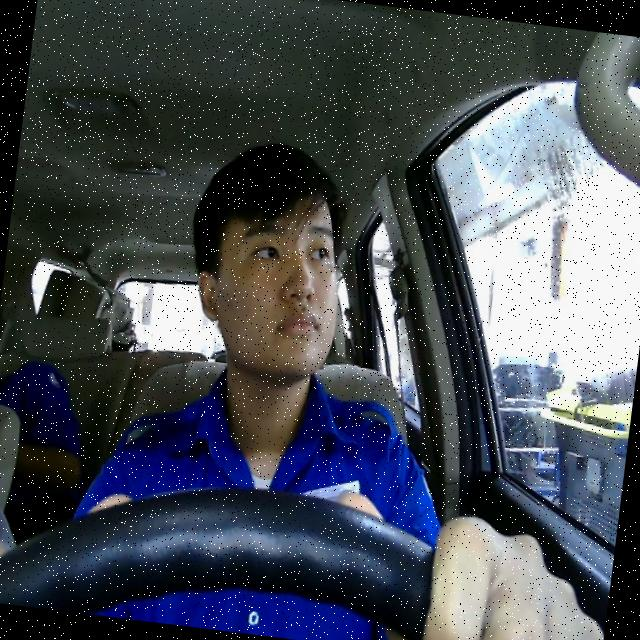seeing_right: (185, 176, 352, 387)
